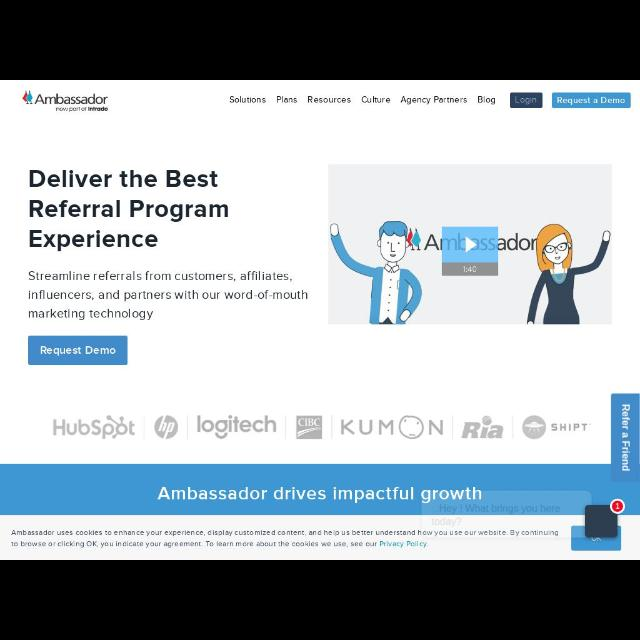icon: (341, 416, 444, 438), (197, 414, 277, 440), (52, 415, 136, 439), (523, 414, 591, 440), (461, 416, 503, 438), (154, 415, 180, 439), (296, 415, 322, 439)
iframe: (0, 516, 638, 558)
image: (328, 164, 612, 326), (22, 90, 108, 112), (584, 506, 618, 536), (610, 498, 624, 514)
text: (29, 170, 229, 252), (29, 271, 308, 321), (11, 530, 559, 548), (158, 486, 482, 504), (40, 346, 116, 356), (557, 97, 625, 105), (622, 404, 630, 472), (230, 96, 266, 104), (434, 96, 468, 104), (308, 96, 352, 102), (401, 96, 432, 104), (362, 96, 391, 104), (516, 96, 536, 105), (478, 96, 496, 104), (276, 96, 298, 102)
textbutton: (28, 335, 128, 365), (552, 92, 630, 108), (510, 92, 542, 108)
